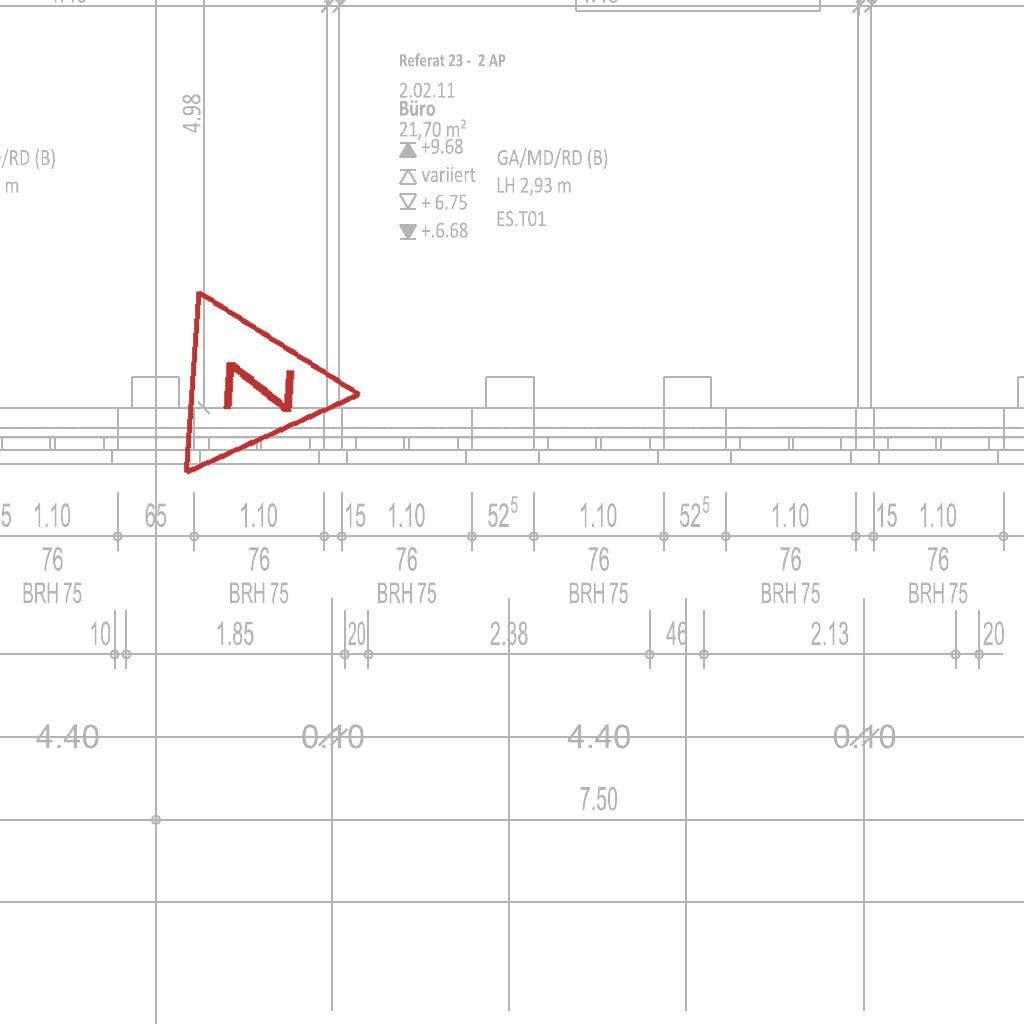Zimmersignalleuchte: (168, 281, 382, 491)
